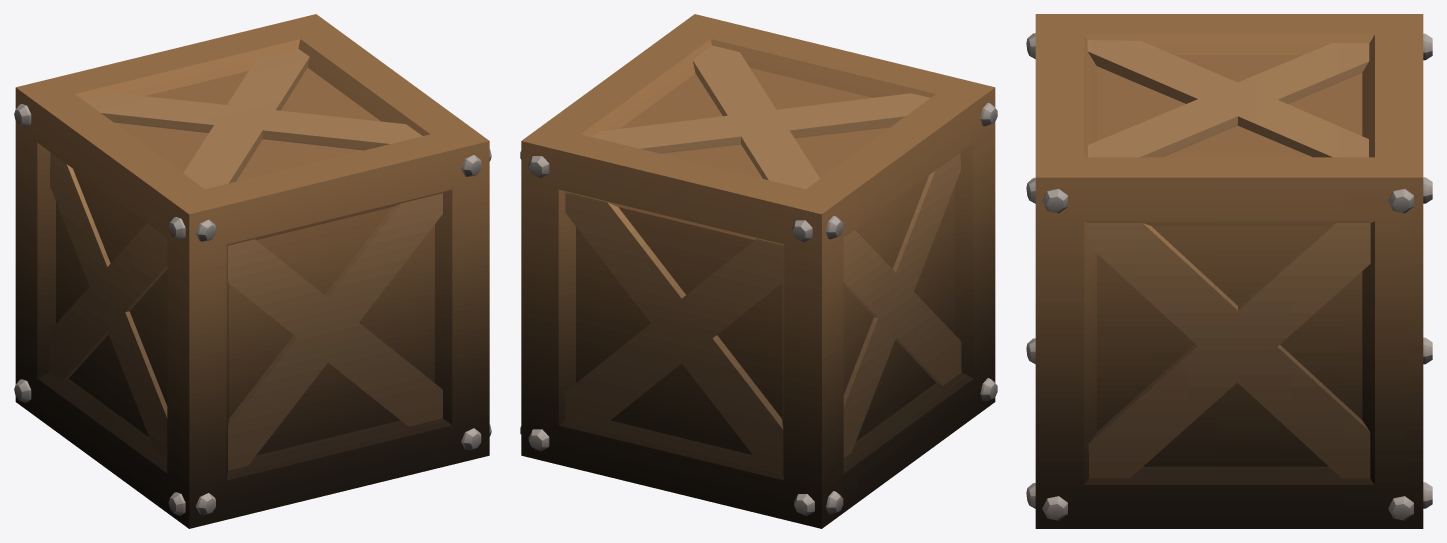
File: Caja.fbx
3 renders of one model, left to right at view 1: azimuth 30°, elevation 25°; view 2: azimuth 150°, elevation 25°; view 3: azimuth 270°, elevation 25°, orthographic. The views are drawn at different scales.
Visible parts, largest first — view 1: pCube15; view 2: pCube15; view 3: pCube15, pCylinder17, pCylinder16, pCylinder15, pCylinder18.
Boxes of the visible parts, box(x1,y1,x2,y2) form: pCube15: box(15, 14, 489, 528); pCube15: box(521, 14, 995, 528); pCube15: box(1035, 14, 1423, 528); pCylinder17: box(1042, 496, 1067, 520); pCylinder16: box(1388, 496, 1413, 520); pCylinder15: box(1388, 188, 1413, 213); pCylinder18: box(1042, 188, 1067, 213).
Bounding box in the file's own units: 1.15 × 1.1 × 1.15.
